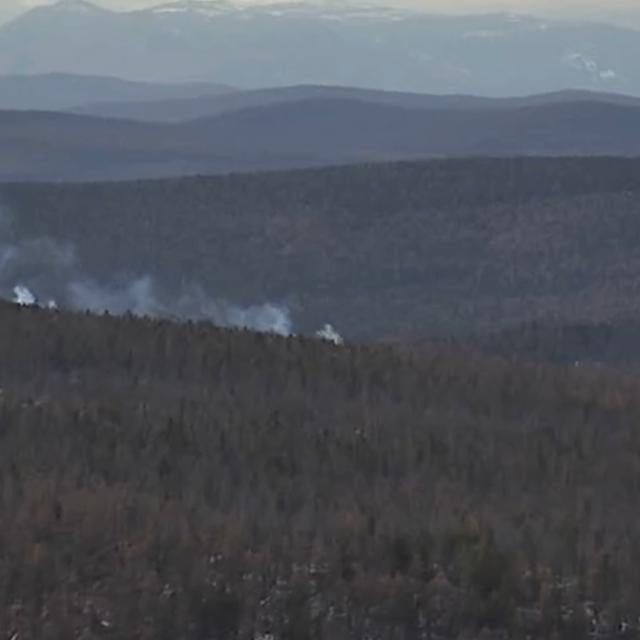Smoke: (0, 200, 351, 343)
